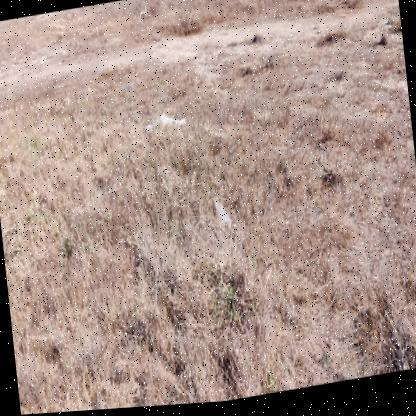Plastic: (213, 201, 232, 227)
Waste: (145, 114, 186, 132)
